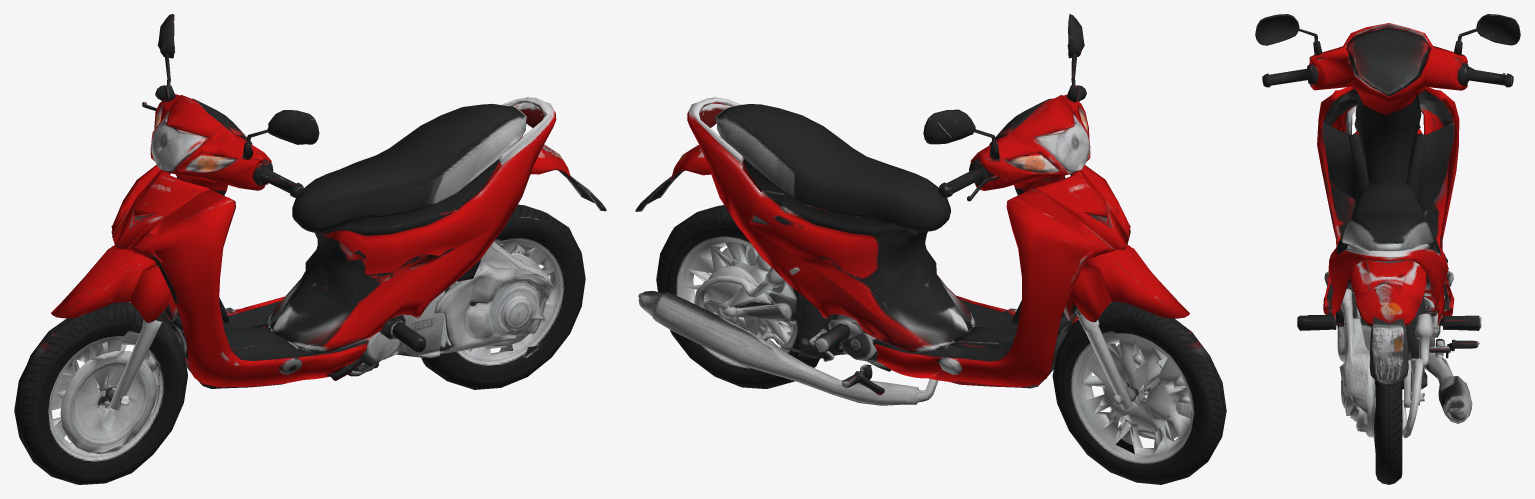
The model's file is Meshy_AI_Red_Honda_Scooter_Fro_1022193819_texture.fbx.
3 views of the same model, side by side, from view 1: azimuth 30°, elevation 25°; view 2: azimuth 150°, elevation 25°; view 3: azimuth 270°, elevation 25° (orthographic). The views are drawn at different scales.
Parts seen in each view (by area): view 1: Mesh_0; view 2: Mesh_0; view 3: Mesh_0.
Part boxes in pixels (x1,y1,x2,y2): Mesh_0: (14, 14, 606, 484); Mesh_0: (635, 14, 1226, 484); Mesh_0: (1255, 14, 1520, 484).
Size of the model in its own units: 95.75 by 60.21 by 41.75.
Materials: 1 (1 with a texture image).
